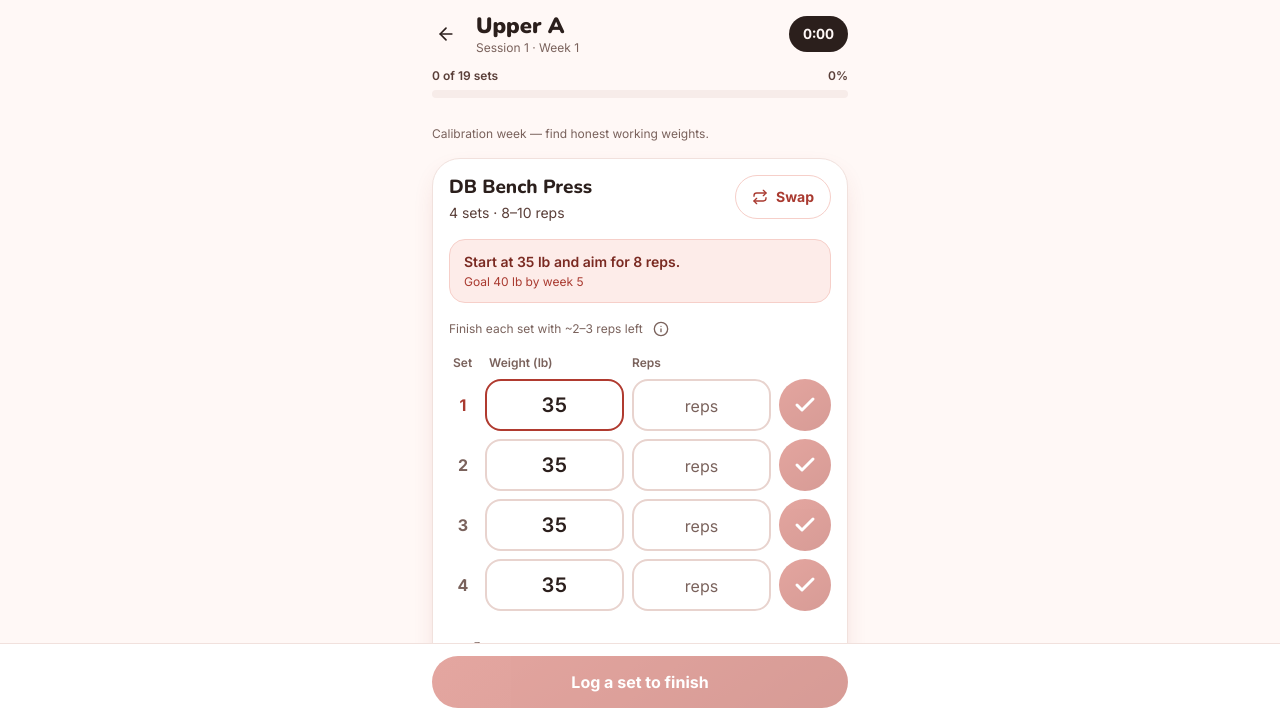
WorkoutPage › "Keep going" closes the finish dialog without writing
The image size is (1280, 720).
Expected: the button named "Log set 1" is shown, 779,379 -> 831,431
Type "10" into the number field named "Set 1 reps".
click(702, 405); type("10")  # box 632,379 -> 771,431
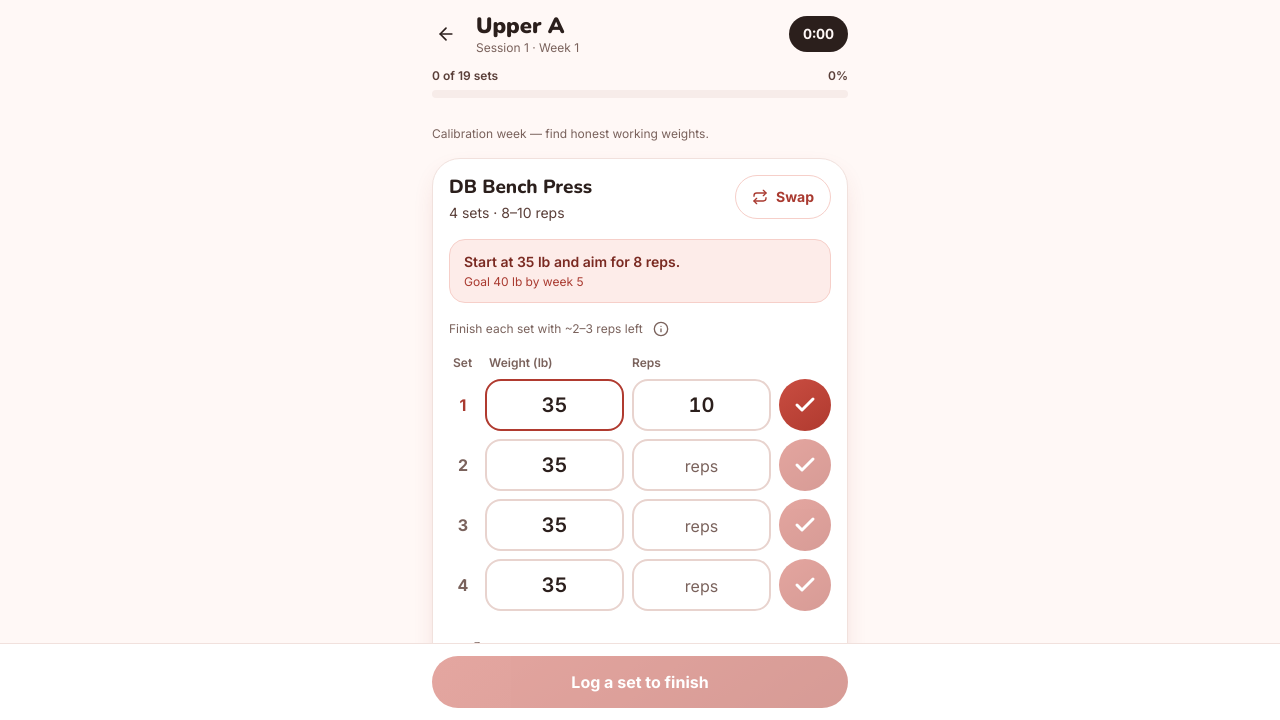
Click the button named "Log set 1".
click(805, 405)  # box 779,379 -> 831,431
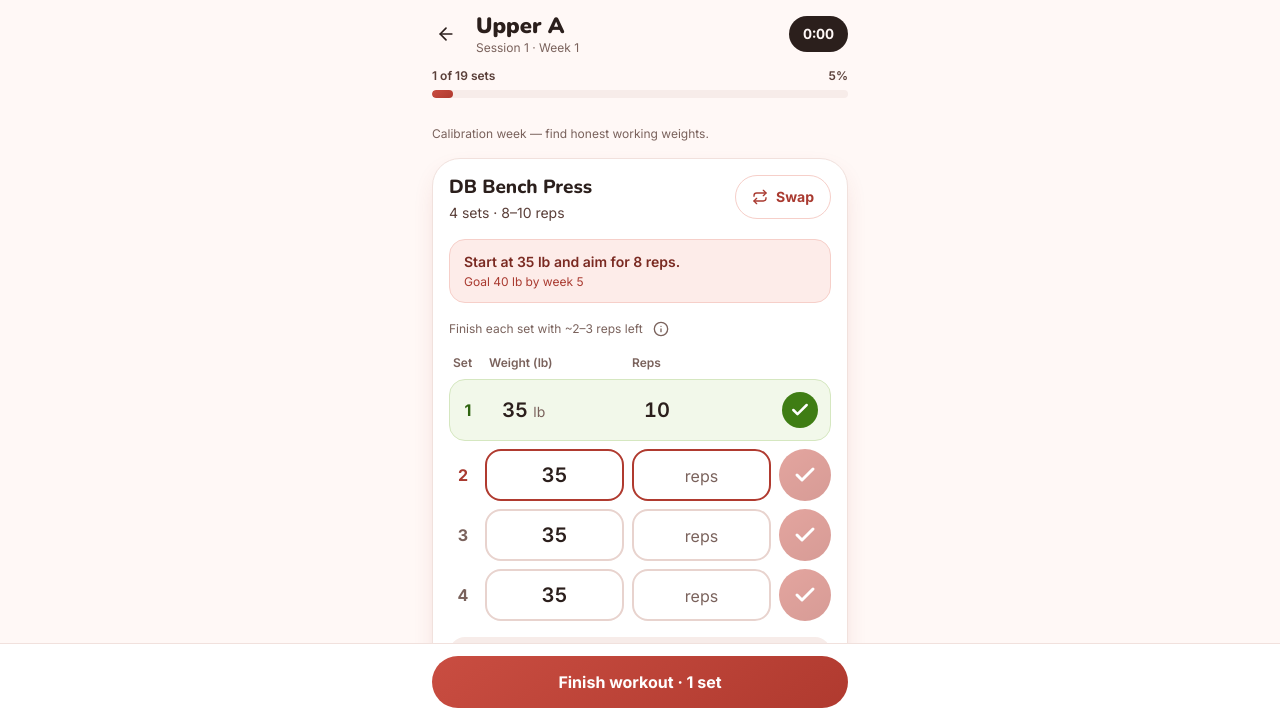
Click the button "Finish workout · 1 set".
click(640, 682)  # box 432,656 -> 848,708
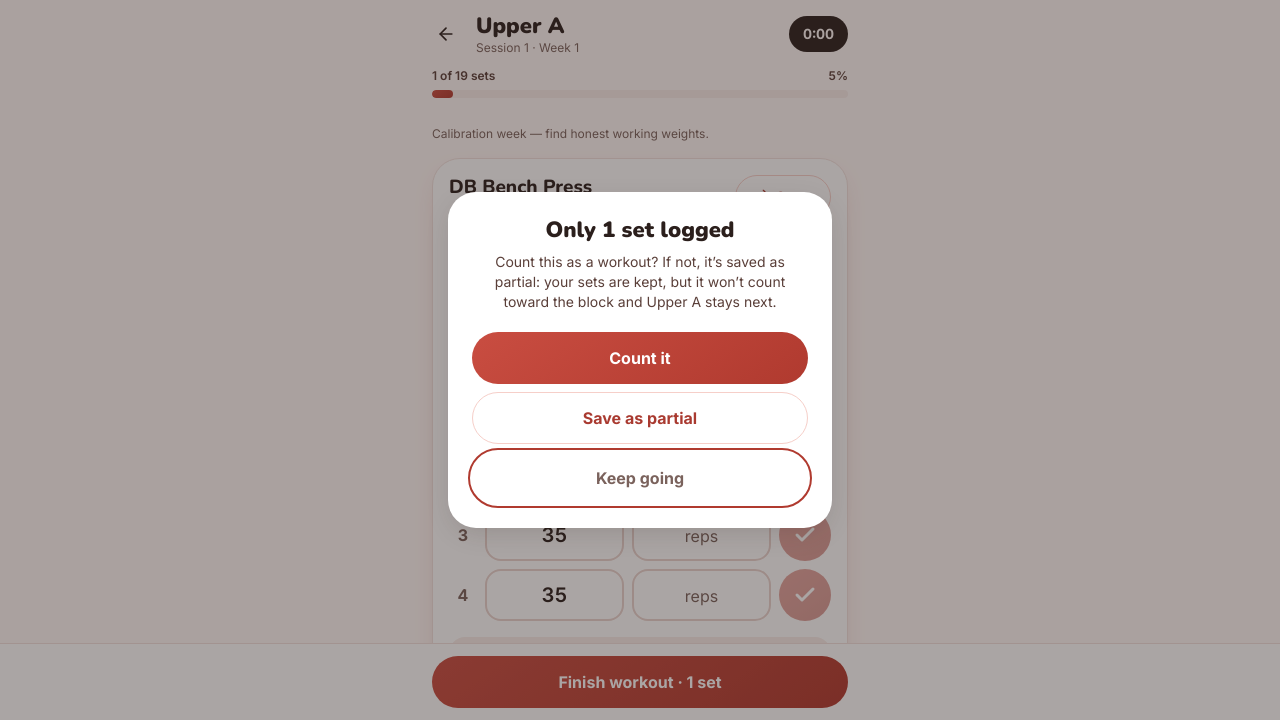
Click the button "Keep going".
click(640, 478)  # box 472,452 -> 808,504
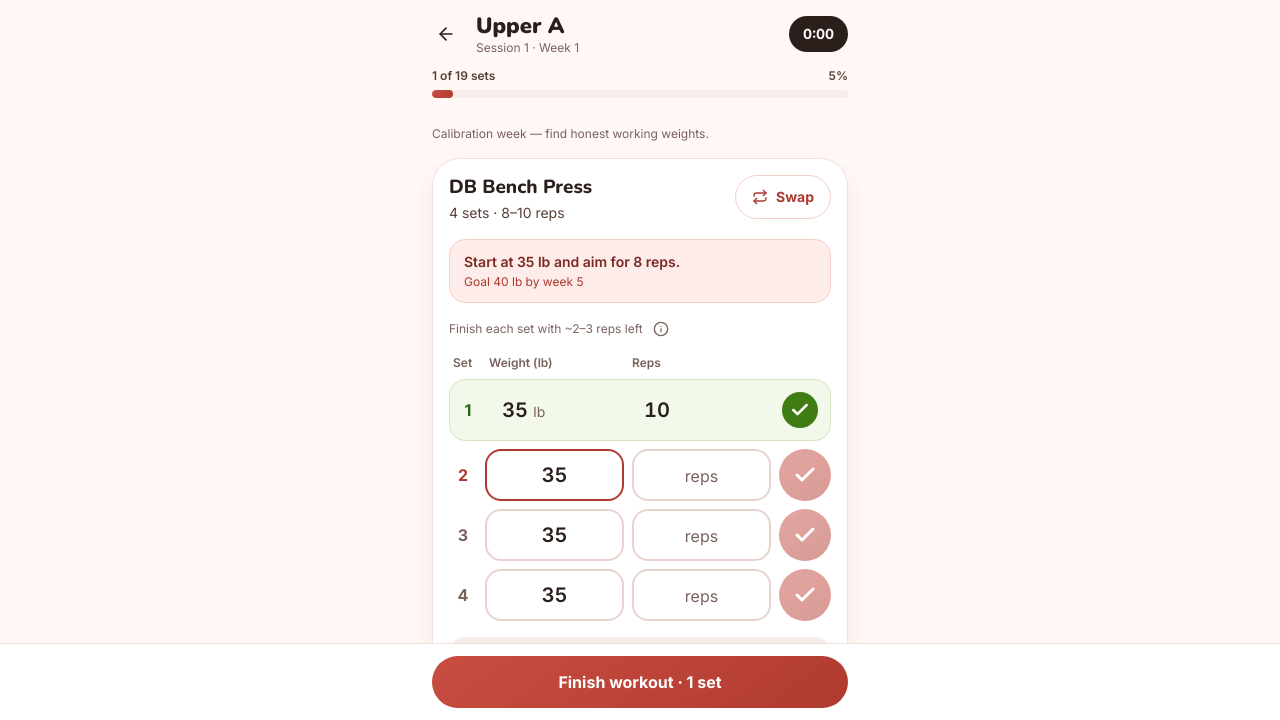
Expected: the dialog is gone
